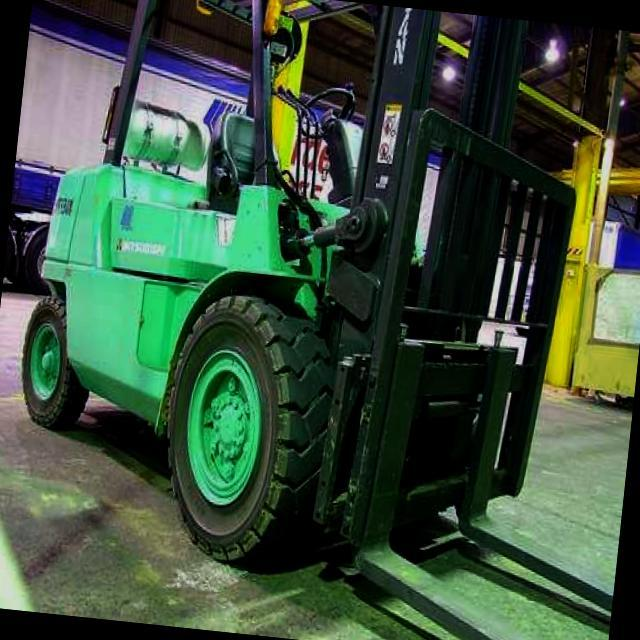forklift: (0, 0, 598, 626)
